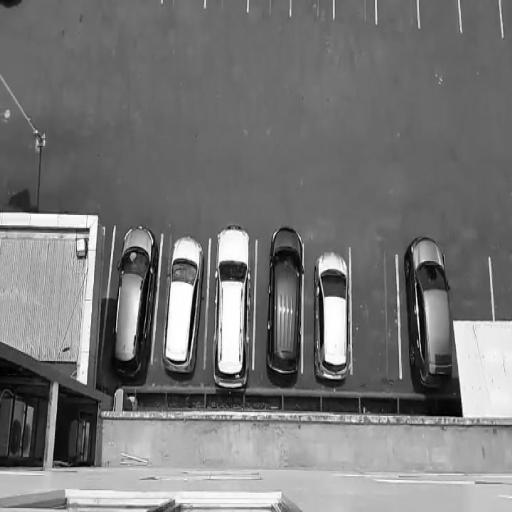Car: (111, 224, 162, 384), (162, 231, 207, 380), (408, 241, 454, 386), (214, 223, 252, 391), (268, 220, 306, 385), (314, 250, 354, 386)
Space Available: (350, 248, 403, 378), (446, 242, 494, 317), (461, 2, 503, 35), (492, 255, 512, 320), (420, 4, 462, 33), (379, 4, 418, 35), (335, 1, 377, 29), (292, 0, 334, 21), (204, 0, 249, 16), (250, 0, 292, 17), (162, 0, 206, 14)
